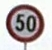limite 50: (4, 3, 44, 42)
